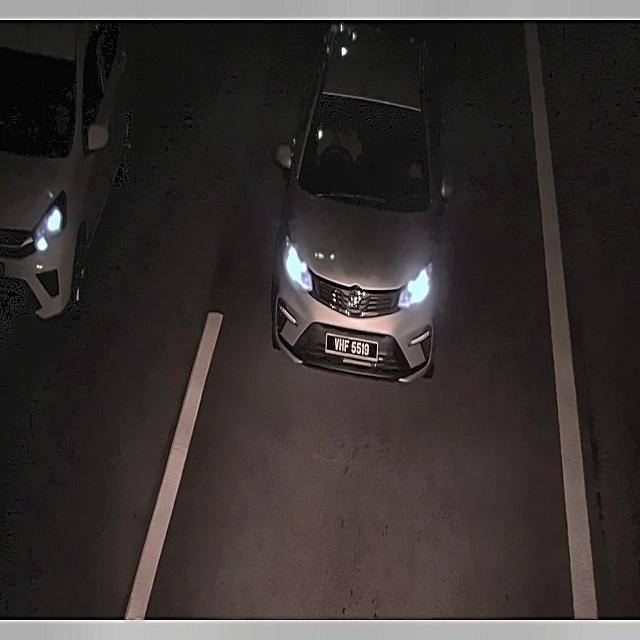car: (323, 326, 382, 367), (0, 261, 5, 282)
